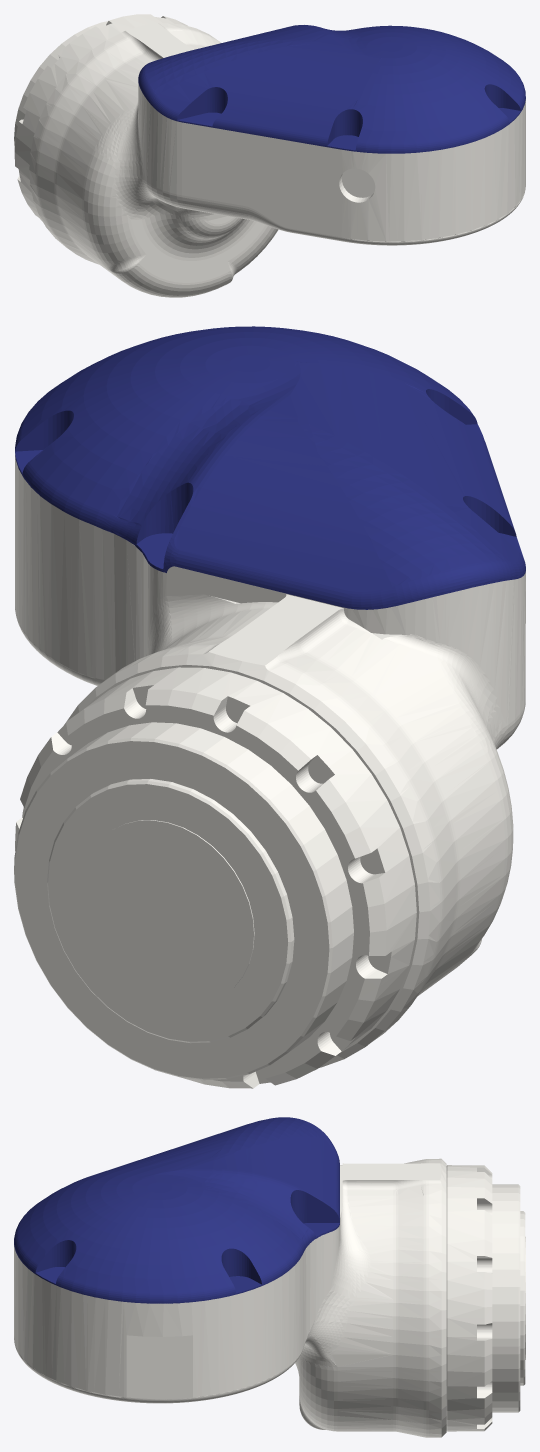
3 renders of one model, top to bottom at view 1: azimuth 30°, elevation 25°; view 2: azimuth 150°, elevation 25°; view 3: azimuth 270°, elevation 25°, orthographic. The views are drawn at different scales.
Visible parts, largest first — view 1: link_r_u; view 2: link_r_u; view 3: link_r_u.
Boxes of the visible parts, x1,y1,x2,y2 form: link_r_u: (14, 14, 525, 297); link_r_u: (14, 326, 525, 1088); link_r_u: (14, 1117, 525, 1437).
Size of the model in its own units: 0.1725 by 0.2018 by 0.131.
1 material, 1 textured.
